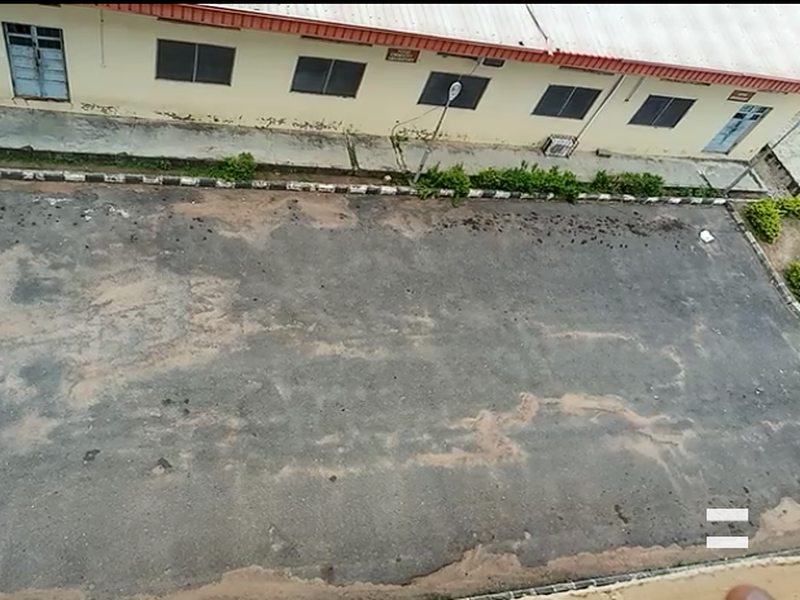five: (640, 184, 765, 342)
four: (481, 165, 593, 335)
one: (5, 153, 119, 337)
three: (292, 166, 417, 339)
two: (149, 153, 257, 341)
